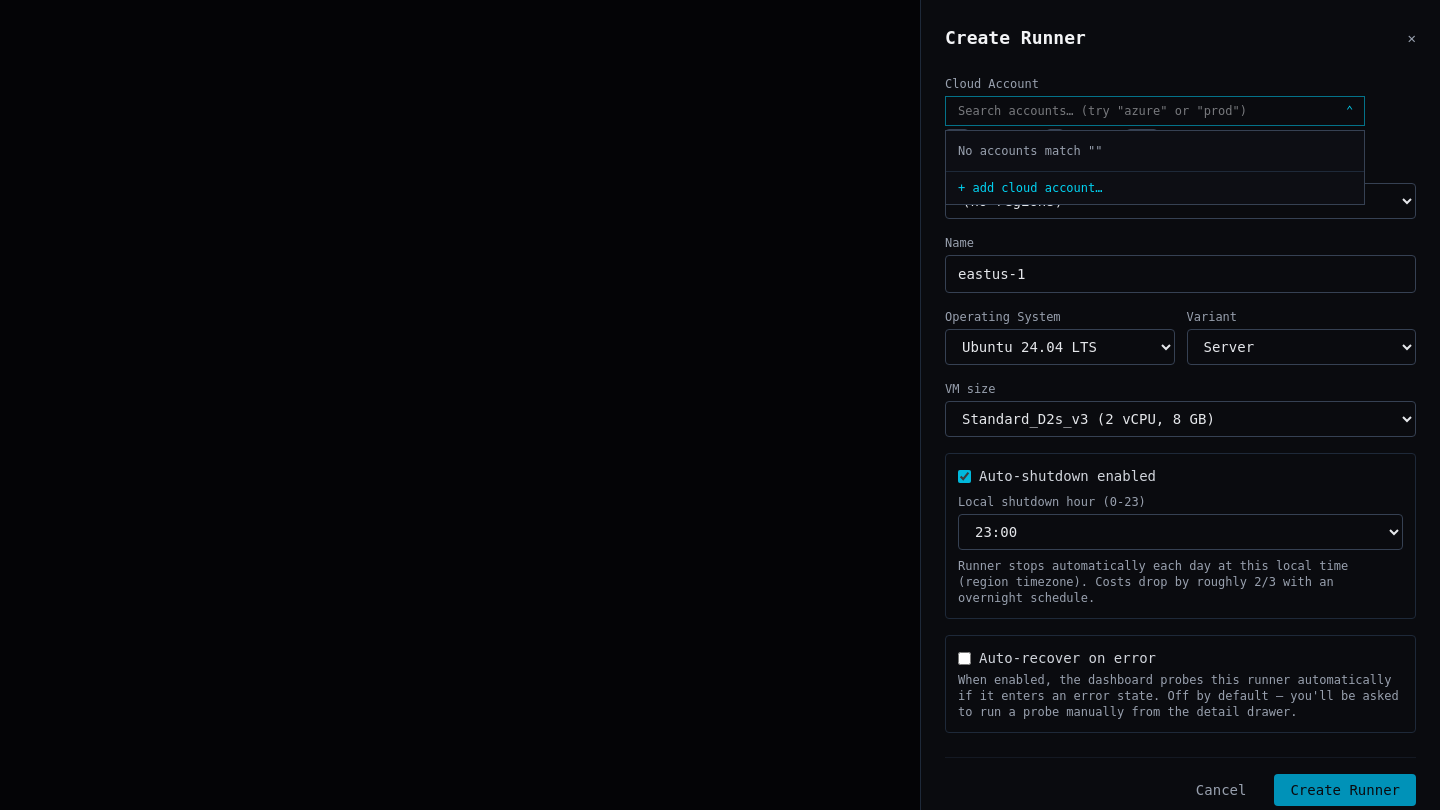
Scenario: CreateTesterModal › POSTs create body and enters creating state
Step 1. Click the button "Create Runner" → [1345, 790], box [1274,774,1416,806]
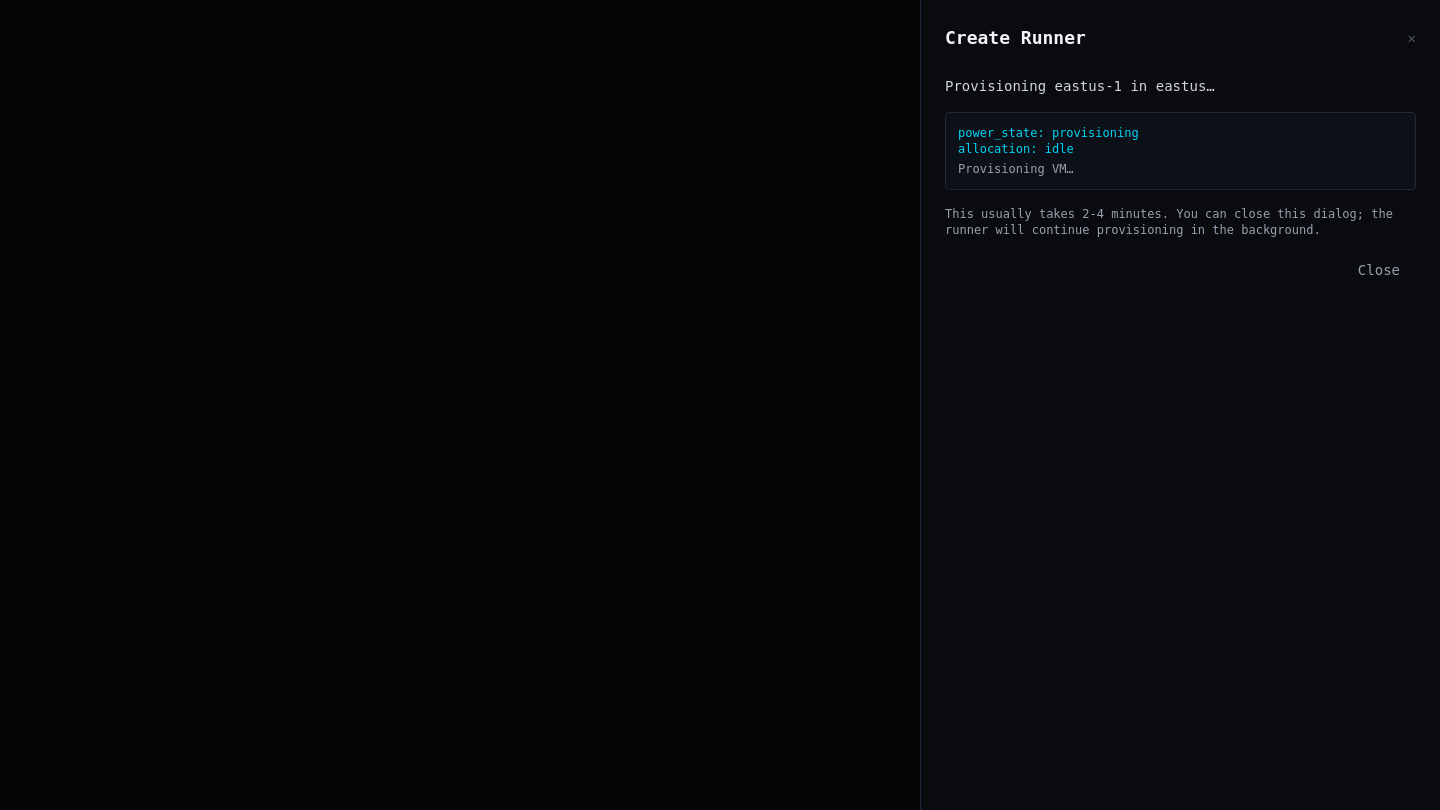
Check: the element with test id "creating-state" is shown, box [945,76,1416,286]
Check: the text "Provisioning VM…" is shown, box [958,162,1074,176]
